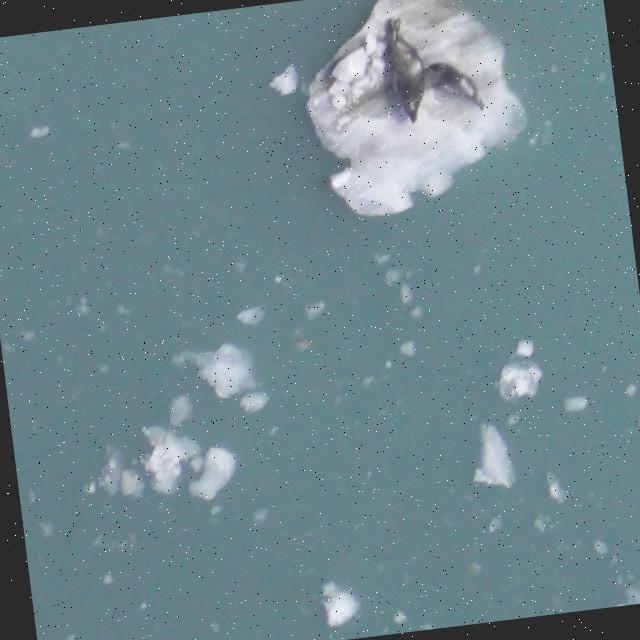seal: (375, 11, 434, 129), (422, 56, 487, 120)
